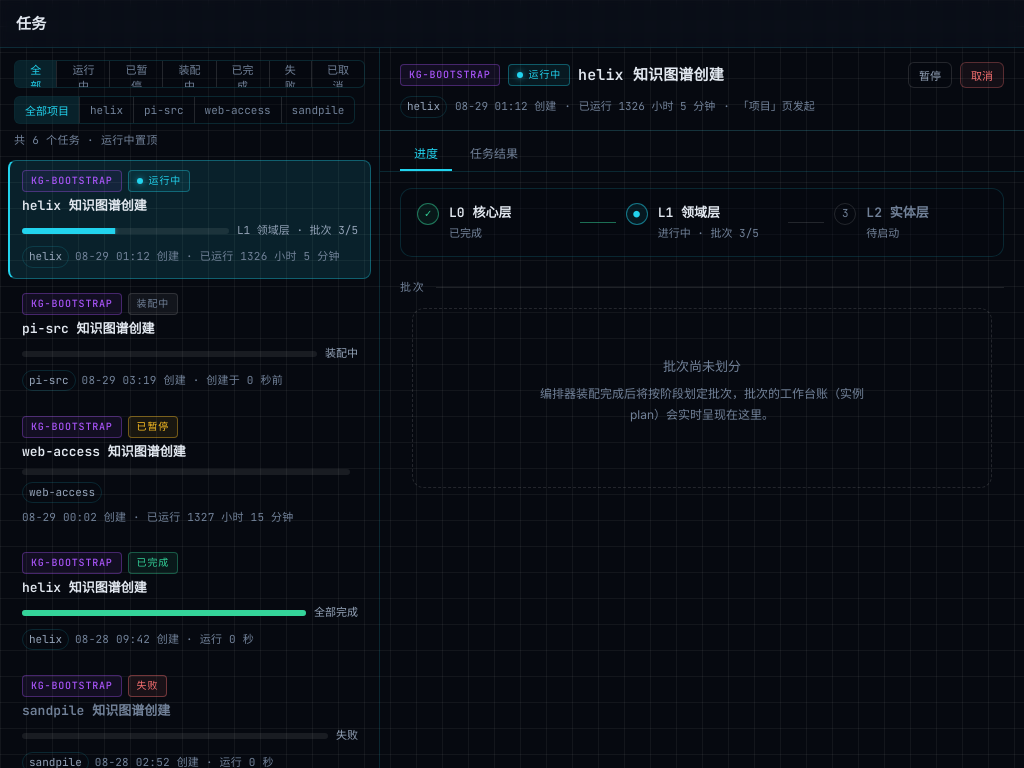
Scenario: M43：artifacts 在途 connection.error 同查（清骨架 + 清 FIFO + 防重发风暴） › 结果 tab 在途收到 connection.error → 错误面（带重试，不谎报空态）+ err toast + 不自动重发
Click the button "任务结果" at (494, 154), box [456,137,532,171]
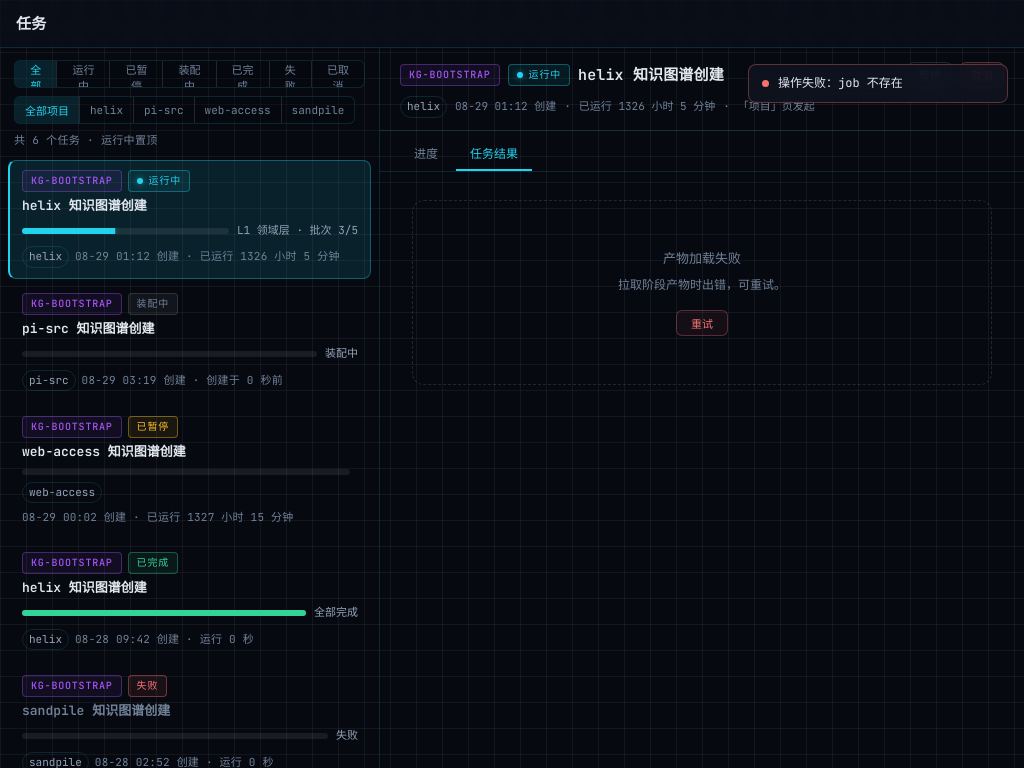
Expected: the element showing "产物加载失败 拉取阶段产物时出错，可重试。 重试" is shown, [400,200,1004,385]
Now the text "操作失败：job 不存在" is shown, box [778,74,903,93]
Now the message "产物加载失败 拉取阶段产物时出错，可重试。 重试" is shown, box [412,200,992,385]
Note: 重试入口：点击重发 → 骨架；结果帧到达 → 产物渲染（错误面解除）
Click the button "重试" at (702, 323), box [676,310,728,336]
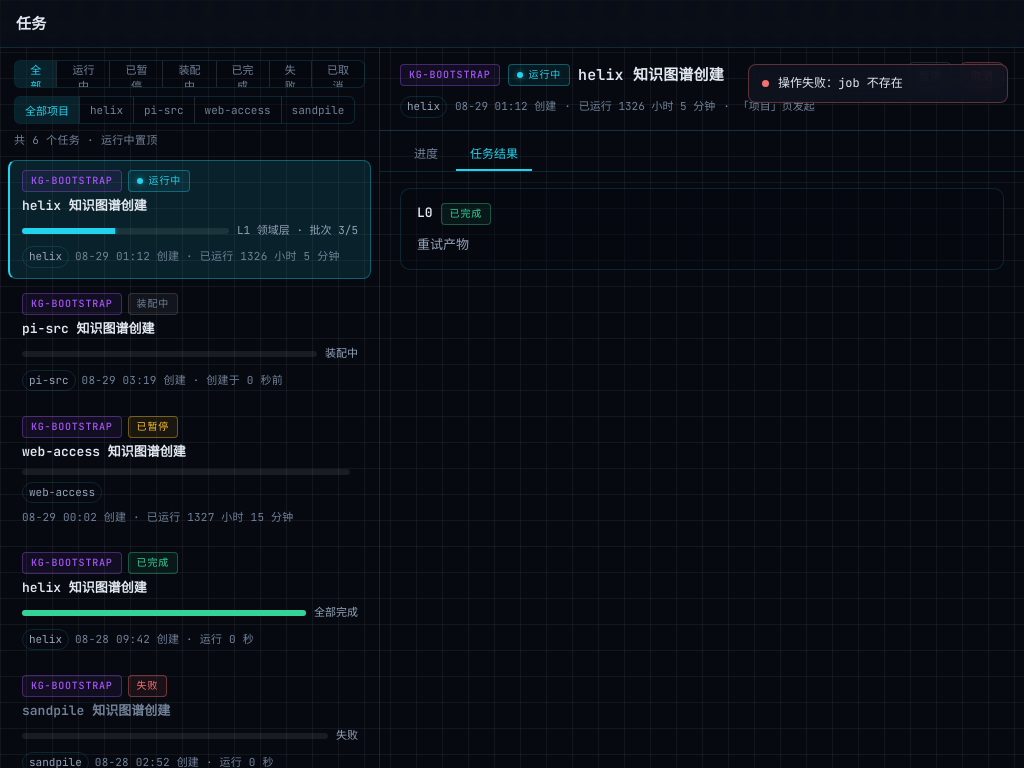
Now the text "重试产物" is shown, box [417,236,469,252]
